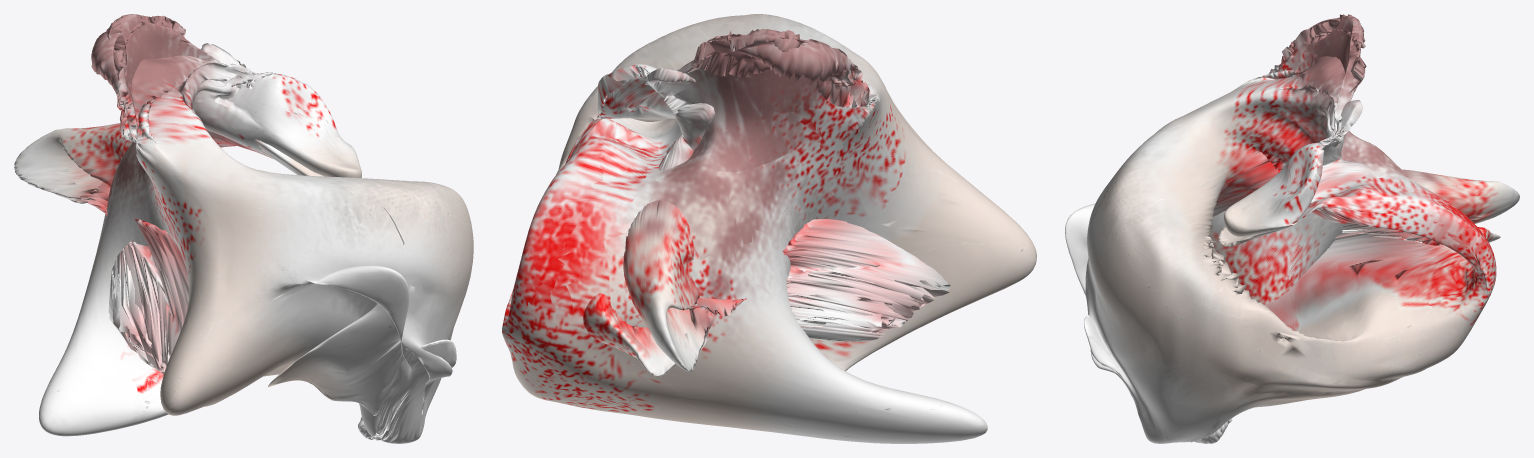
Rendered from object-oriented-stone.glb.
3 renders of one model, left to right at view 1: azimuth 30°, elevation 25°; view 2: azimuth 150°, elevation 25°; view 3: azimuth 270°, elevation 25°, orthographic. The views are drawn at different scales.
Visible parts, largest first — view 1: My Sculpture; view 2: My Sculpture; view 3: My Sculpture.
Boxes of the visible parts, x1,y1,x2,y2 form: My Sculpture: (14,14,473,443); My Sculpture: (502,14,1036,443); My Sculpture: (1065,14,1519,443).
Size of the model in its own units: 1.62 by 1.6 by 1.86.
1 material, 1 textured.
